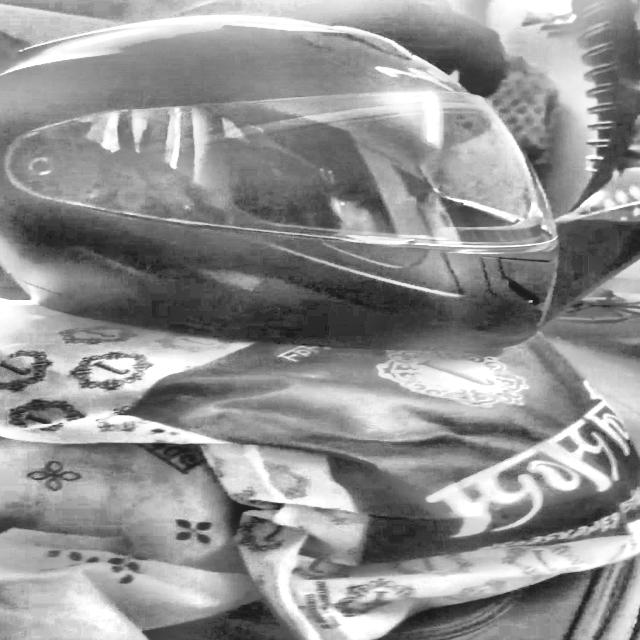Helmet: (0, 13, 564, 352)
